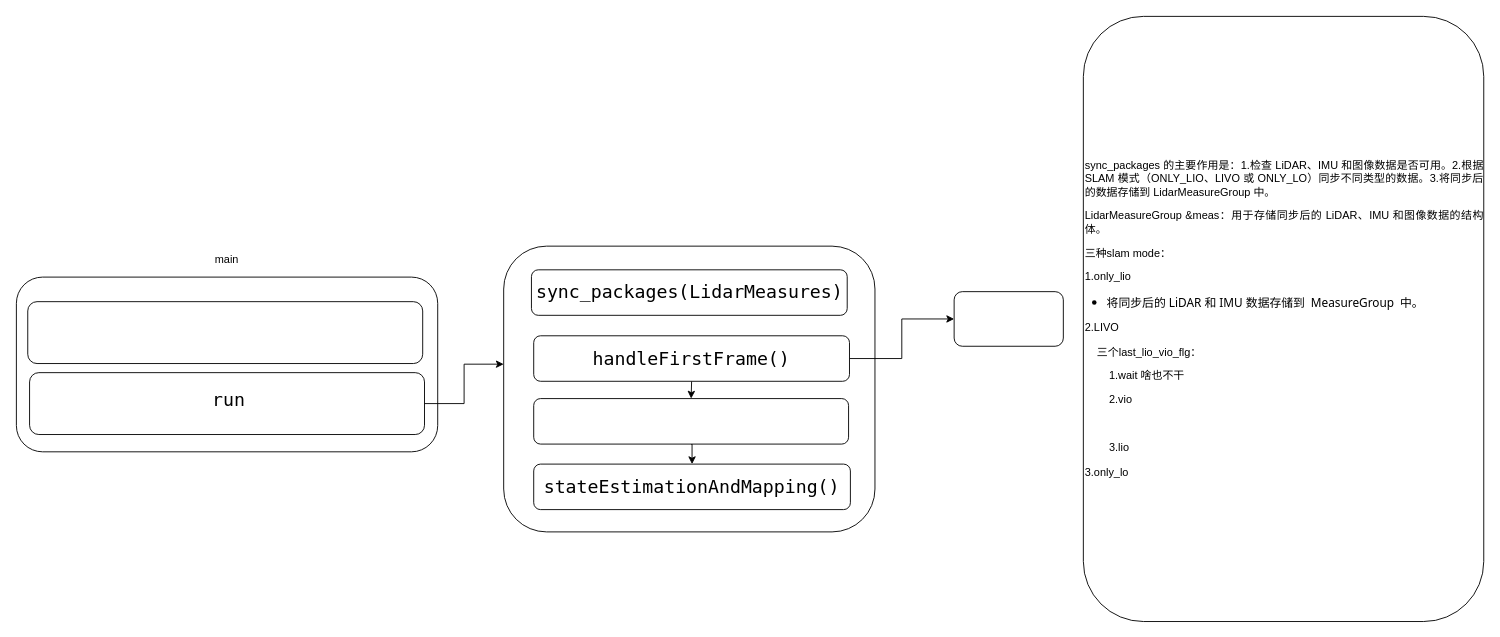
The diagram is 1500 pixels wide and 637 high, and some of its shapes have lost their labels. Here are the shapes that lost their labels. From the top down, the centre of each, then its label:
At point (225, 332): "initializeSubscribersAndPublishers".
At point (1008, 318): "处理第一帧雷达数据".
At point (691, 421): "processImu()".
